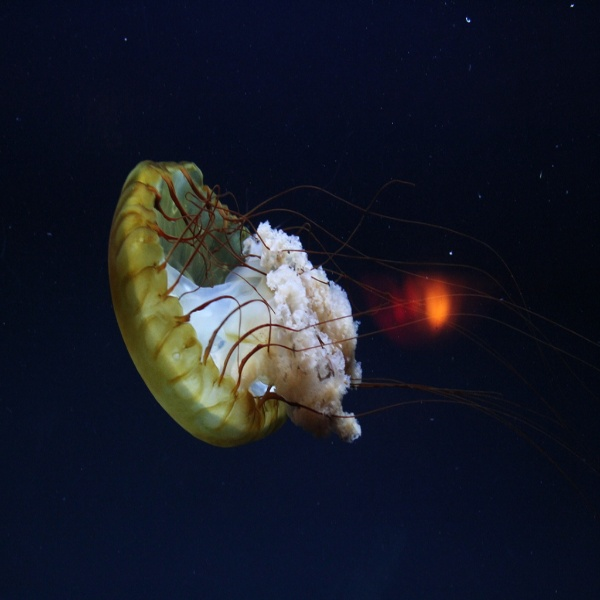Jellyfish: (107, 158, 600, 518)
